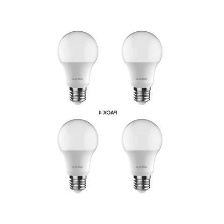light_bulb: (53, 27, 103, 106), (53, 114, 103, 192), (119, 116, 166, 195), (119, 28, 163, 107)
